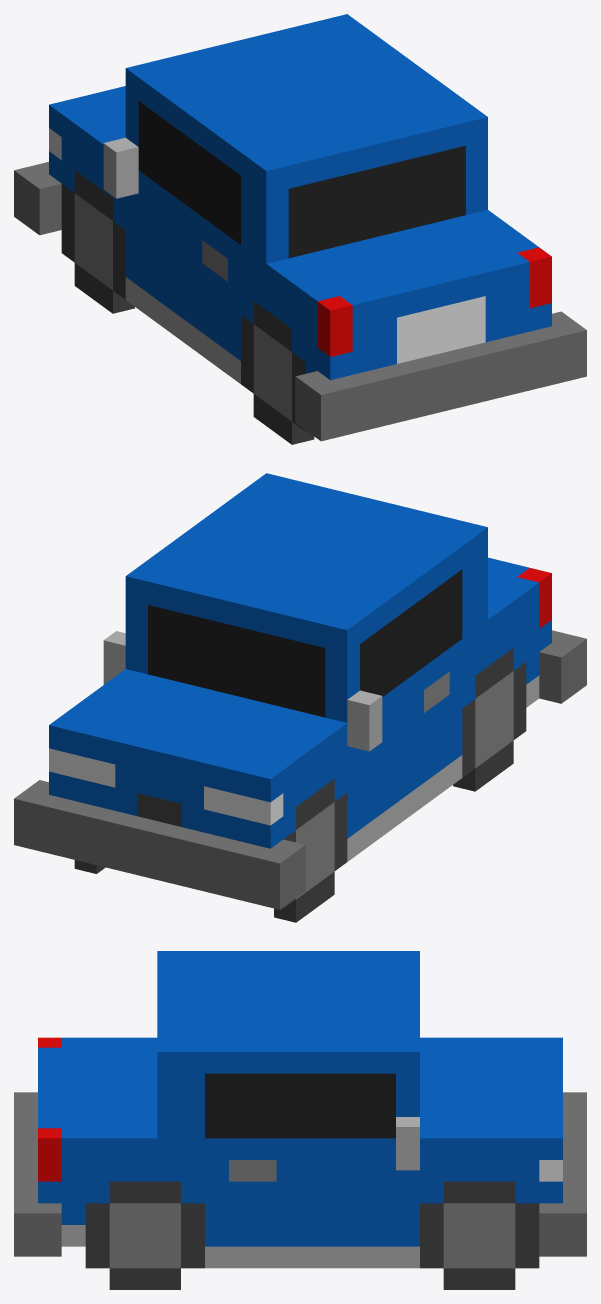
Rendered from veh_mini5.obj.
3 renders of one model, top to bottom at view 1: azimuth 30°, elevation 25°; view 2: azimuth 150°, elevation 25°; view 3: azimuth 270°, elevation 25°, orthographic. The views are drawn at different scales.
Size of the model in its own units: 1.2 by 1.1 by 2.4.
1 material, 1 textured.
